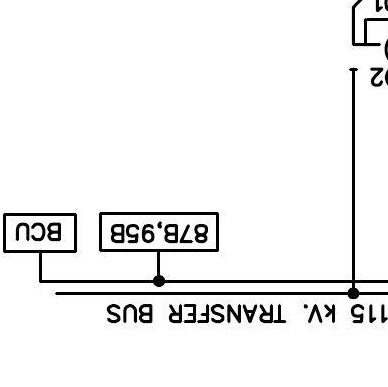BCU: (2, 212, 78, 254)
